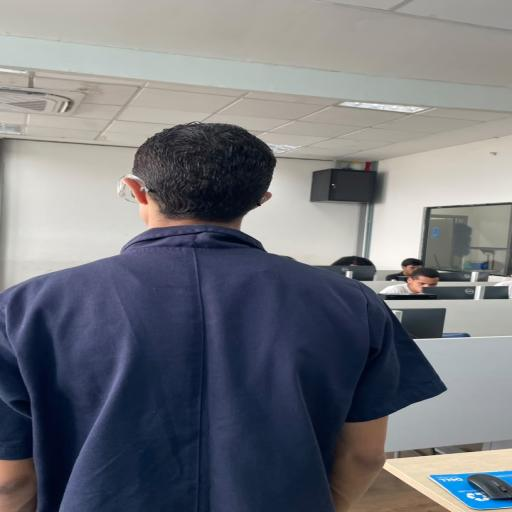OCULOS: (116, 174, 149, 204)
